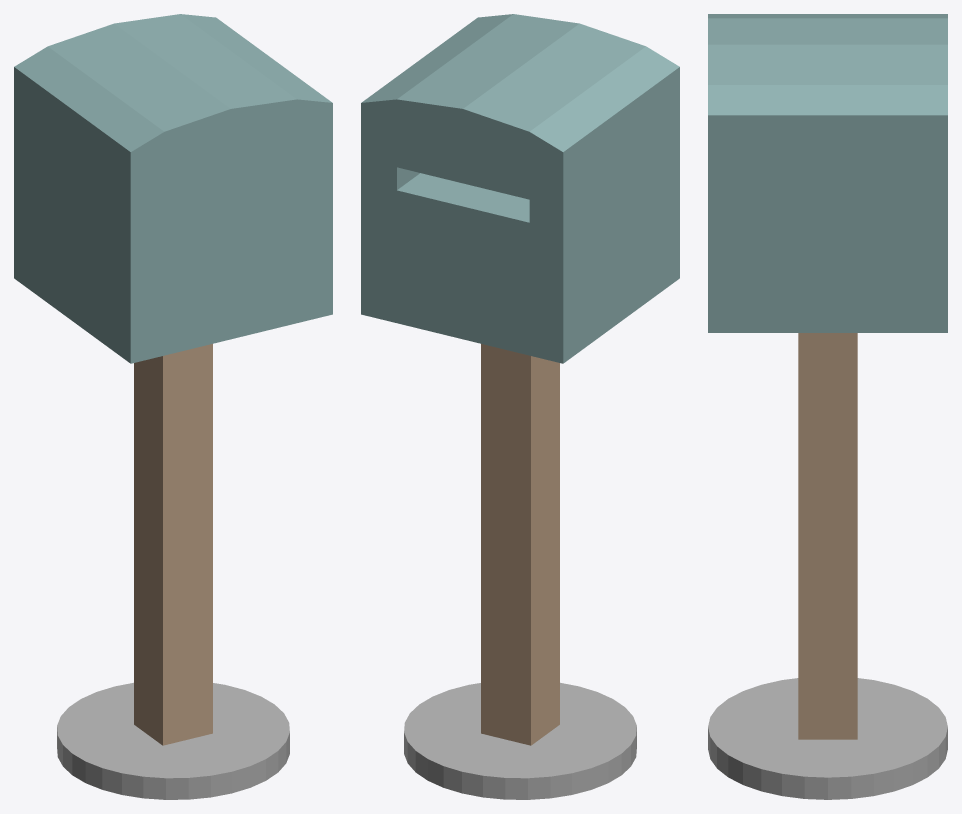
File: tr_mail_v2.fbx
3 renders of one model, left to right at view 1: azimuth 30°, elevation 25°; view 2: azimuth 150°, elevation 25°; view 3: azimuth 270°, elevation 25°, orthographic. The views are drawn at different scales.
Parts seen in each view (by area): view 1: Cube; view 2: Cube; view 3: Cube.
Part boxes in pixels (x1,y1,x2,y2): Cube: (14, 14, 332, 799); Cube: (361, 14, 679, 799); Cube: (708, 14, 947, 799).
Bounding box in the file's own units: 200 × 647 × 200.
